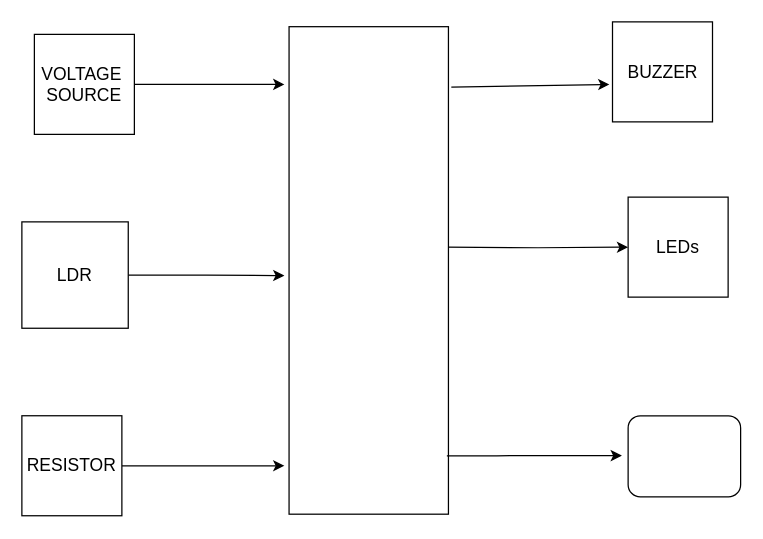
The diagram is 763 pixels wide and 539 high, and some of its shapes have lost their labels. Each missing label, with the box of its shape:
ATMEGA328: (288, 25, 448, 514)
GND: (627, 414, 741, 497)
